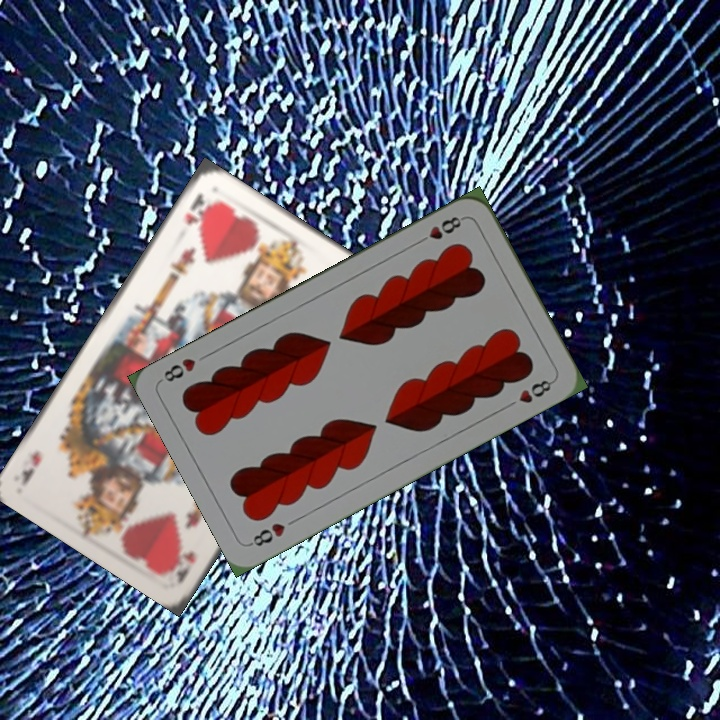H8: (413, 212, 467, 247), (246, 519, 288, 549)
HK: (181, 188, 218, 227), (166, 547, 198, 586)
